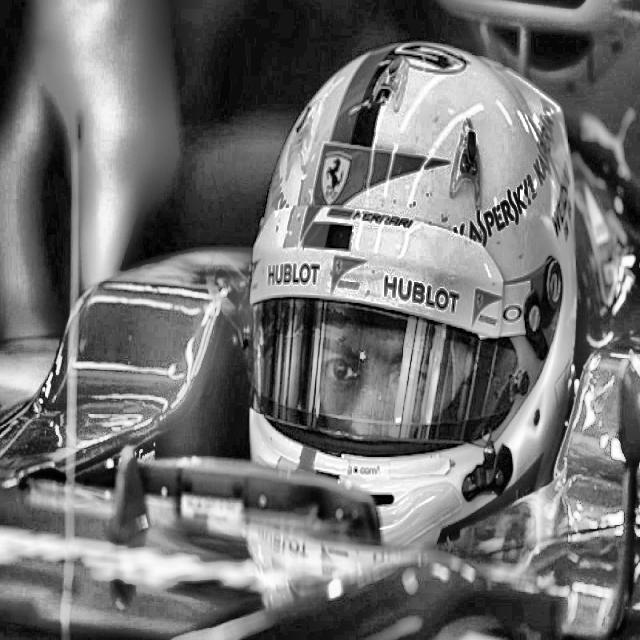Helmet: (245, 41, 585, 543)
